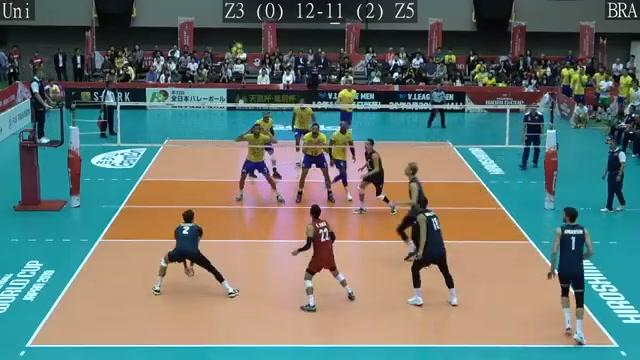ball: (229, 42, 245, 58)
